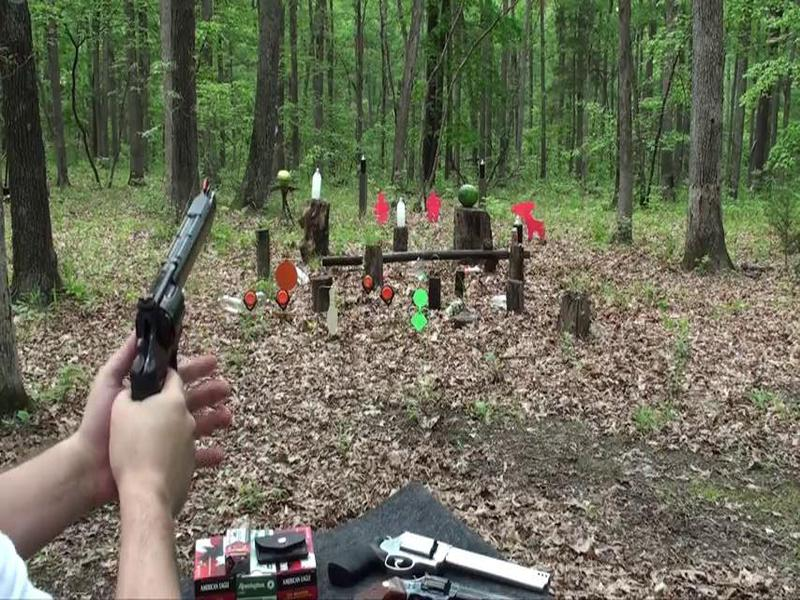Revolver: (117, 190, 237, 433)
